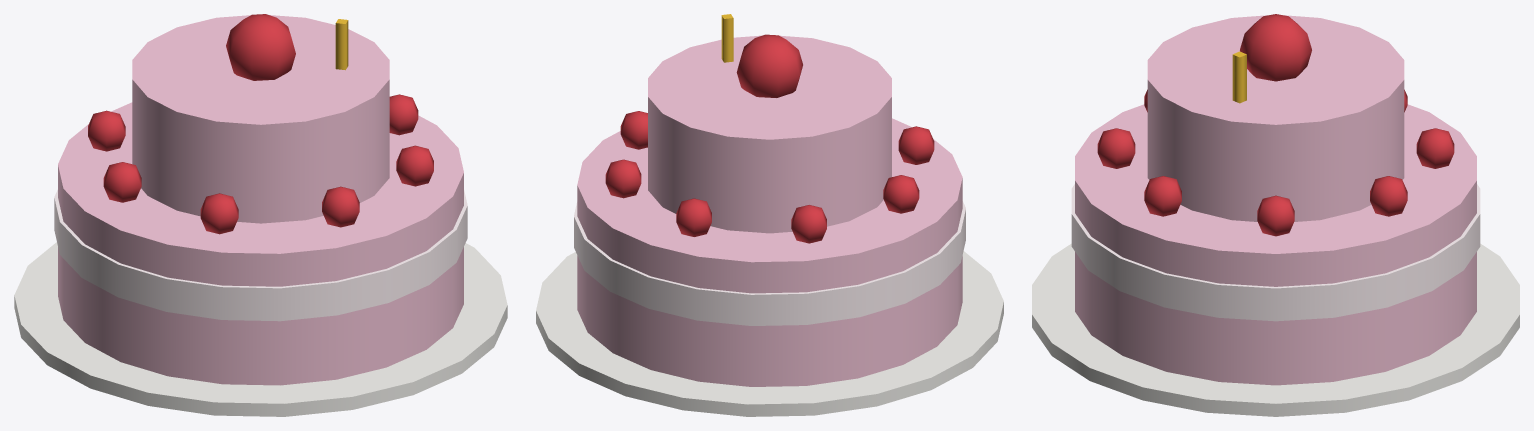
Rendered from cake_whole.glb.
3 renders of one model, left to right at view 1: azimuth 30°, elevation 25°; view 2: azimuth 150°, elevation 25°; view 3: azimuth 270°, elevation 25°, orthographic. The views are drawn at different scales.
Visible parts, largest first — view 1: root; view 2: root; view 3: root.
Boxes of the visible parts, x1,y1,x2,y2 form: root: (14,14,507,416); root: (536,14,1003,416); root: (1032,14,1519,416).
Size of the model in its own units: 0.68 by 0.45 by 0.6731.
